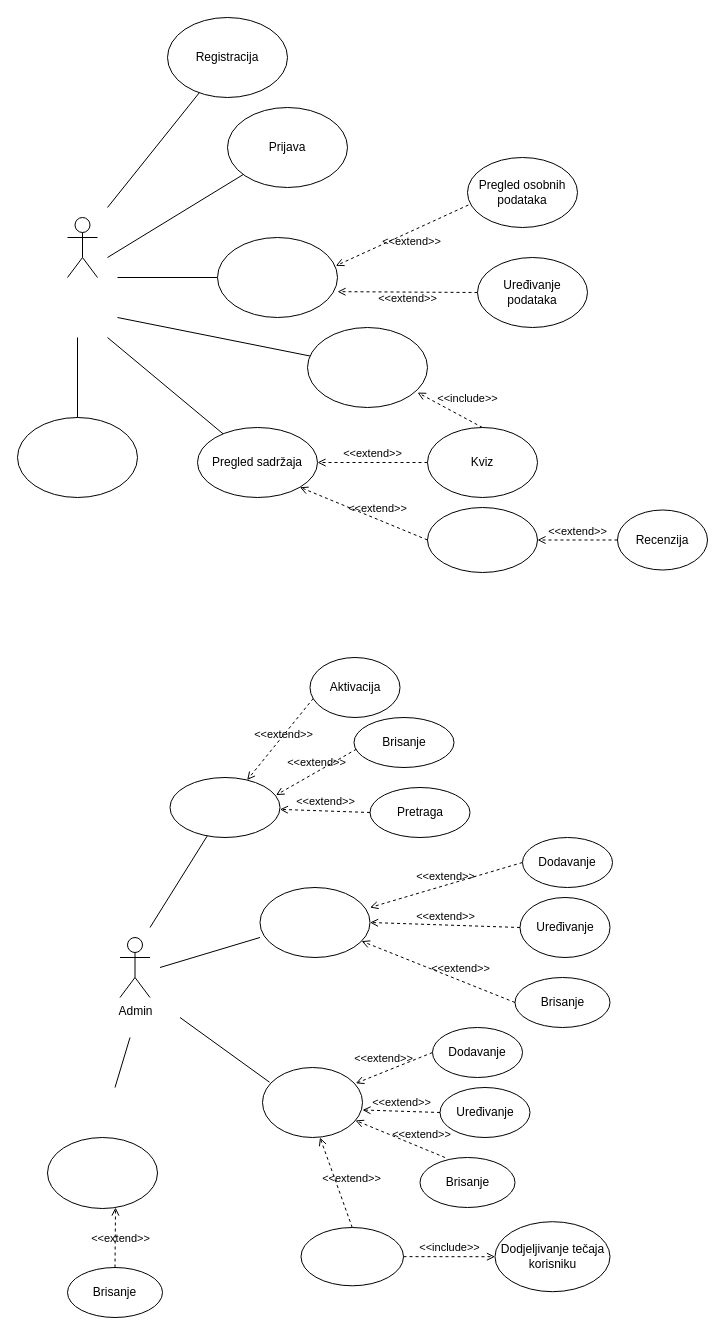
Some shapes in this 725 by 1335 pixel diagram are drawn without their labels. The box of each missing label's shape, as (x1, y1, x2, y2) in pixels:
Korisnik: (66, 216, 98, 278)
Odjava: (16, 416, 138, 498)
Ponuda tečajeva: (426, 506, 538, 572)
Pregled komentara: (46, 1136, 158, 1208)
Pregled korisnika: (169, 776, 280, 838)
Pregled kvizova: (262, 1066, 362, 1138)
Pregled rezultata: (300, 1226, 404, 1286)
Pregled rezultata kviza: (306, 326, 428, 408)
Pregled tečajeva: (259, 886, 370, 958)
Upravljanje profilom: (216, 236, 338, 318)
